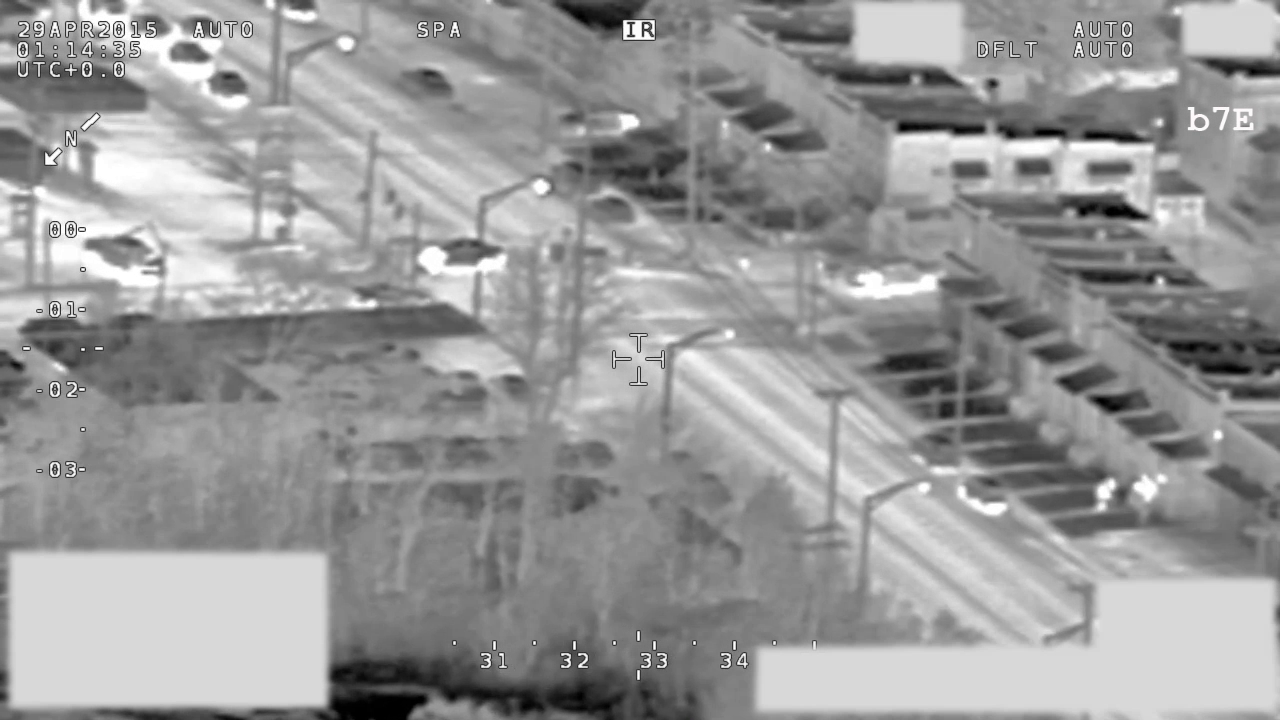vehicle: (82, 231, 171, 281), (414, 237, 514, 275), (905, 431, 964, 475), (397, 59, 455, 103), (955, 469, 1005, 519), (160, 38, 214, 79), (200, 68, 249, 108), (177, 13, 228, 50), (82, 1, 136, 34), (126, 14, 173, 51), (266, 1, 323, 27)
